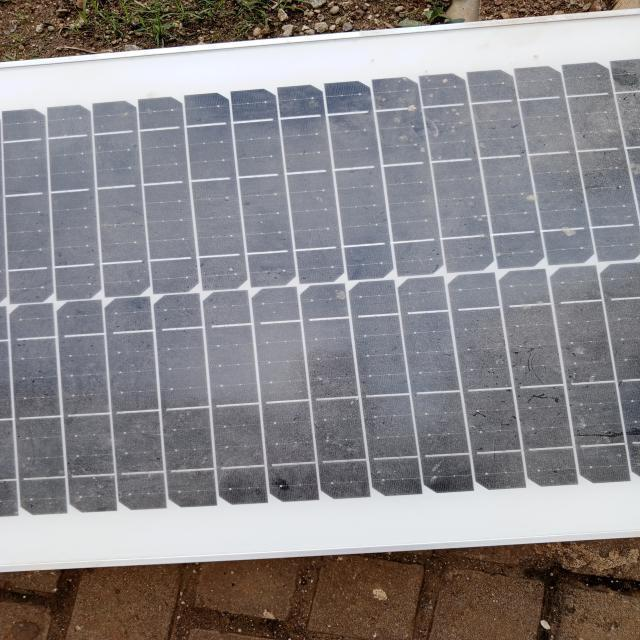Surface Contaminant: (22, 90, 639, 489)
